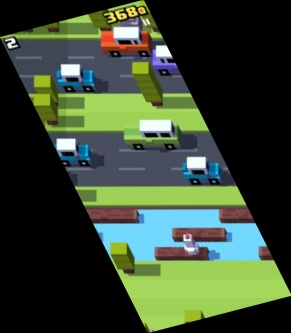car: (124, 119, 183, 150), (100, 27, 152, 58), (151, 45, 202, 76), (48, 137, 94, 168), (55, 63, 98, 93), (182, 156, 223, 186)
duck: (181, 233, 200, 258)
log: (79, 207, 139, 223), (218, 207, 270, 224), (155, 246, 209, 262), (171, 227, 227, 242), (259, 246, 289, 260)
rock: (119, 13, 143, 36)
tree: (132, 61, 165, 107), (136, 1, 167, 34), (32, 92, 59, 126), (33, 74, 60, 107), (109, 242, 136, 275), (87, 5, 113, 35), (18, 6, 37, 35), (184, 310, 206, 333), (42, 8, 61, 33)
water: (81, 205, 275, 261)
